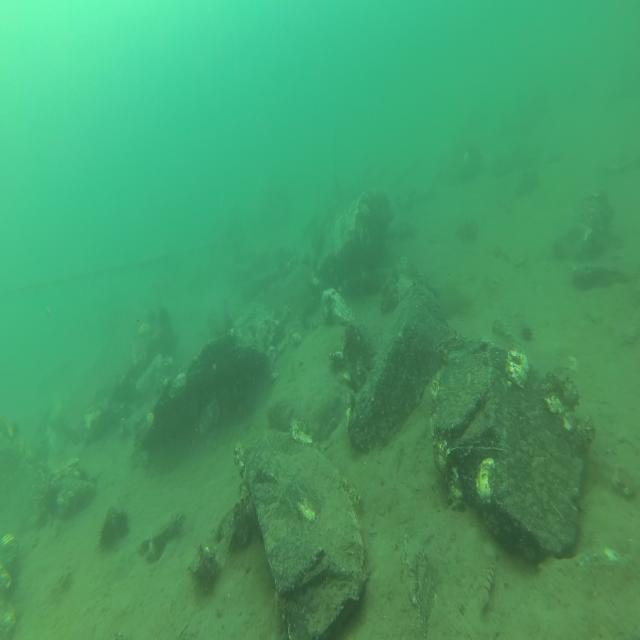echinus: (114, 506, 131, 537), (97, 524, 114, 552)
